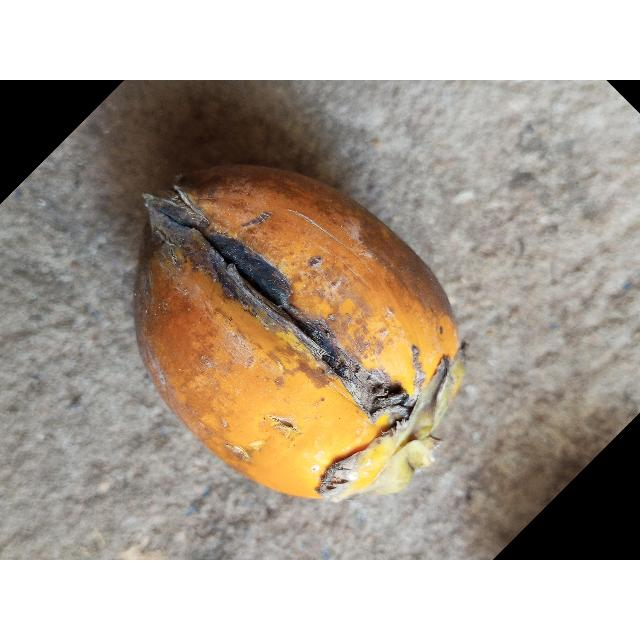damaged: (135, 166, 464, 501)
